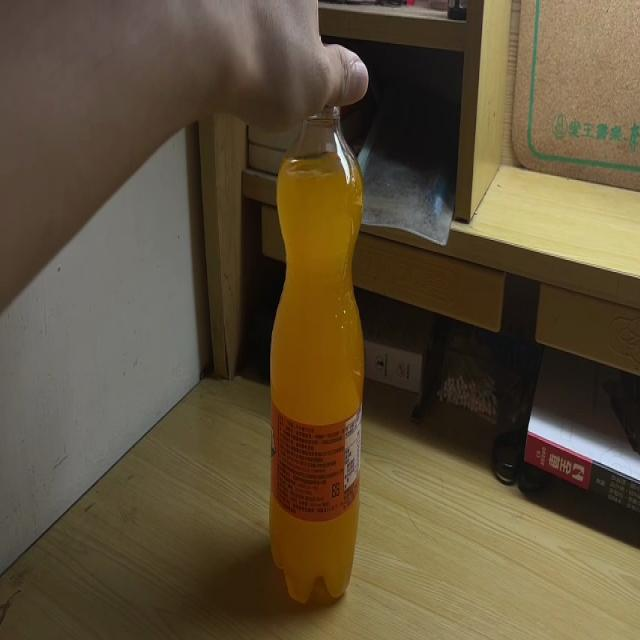Fanta: (270, 40, 364, 609)
